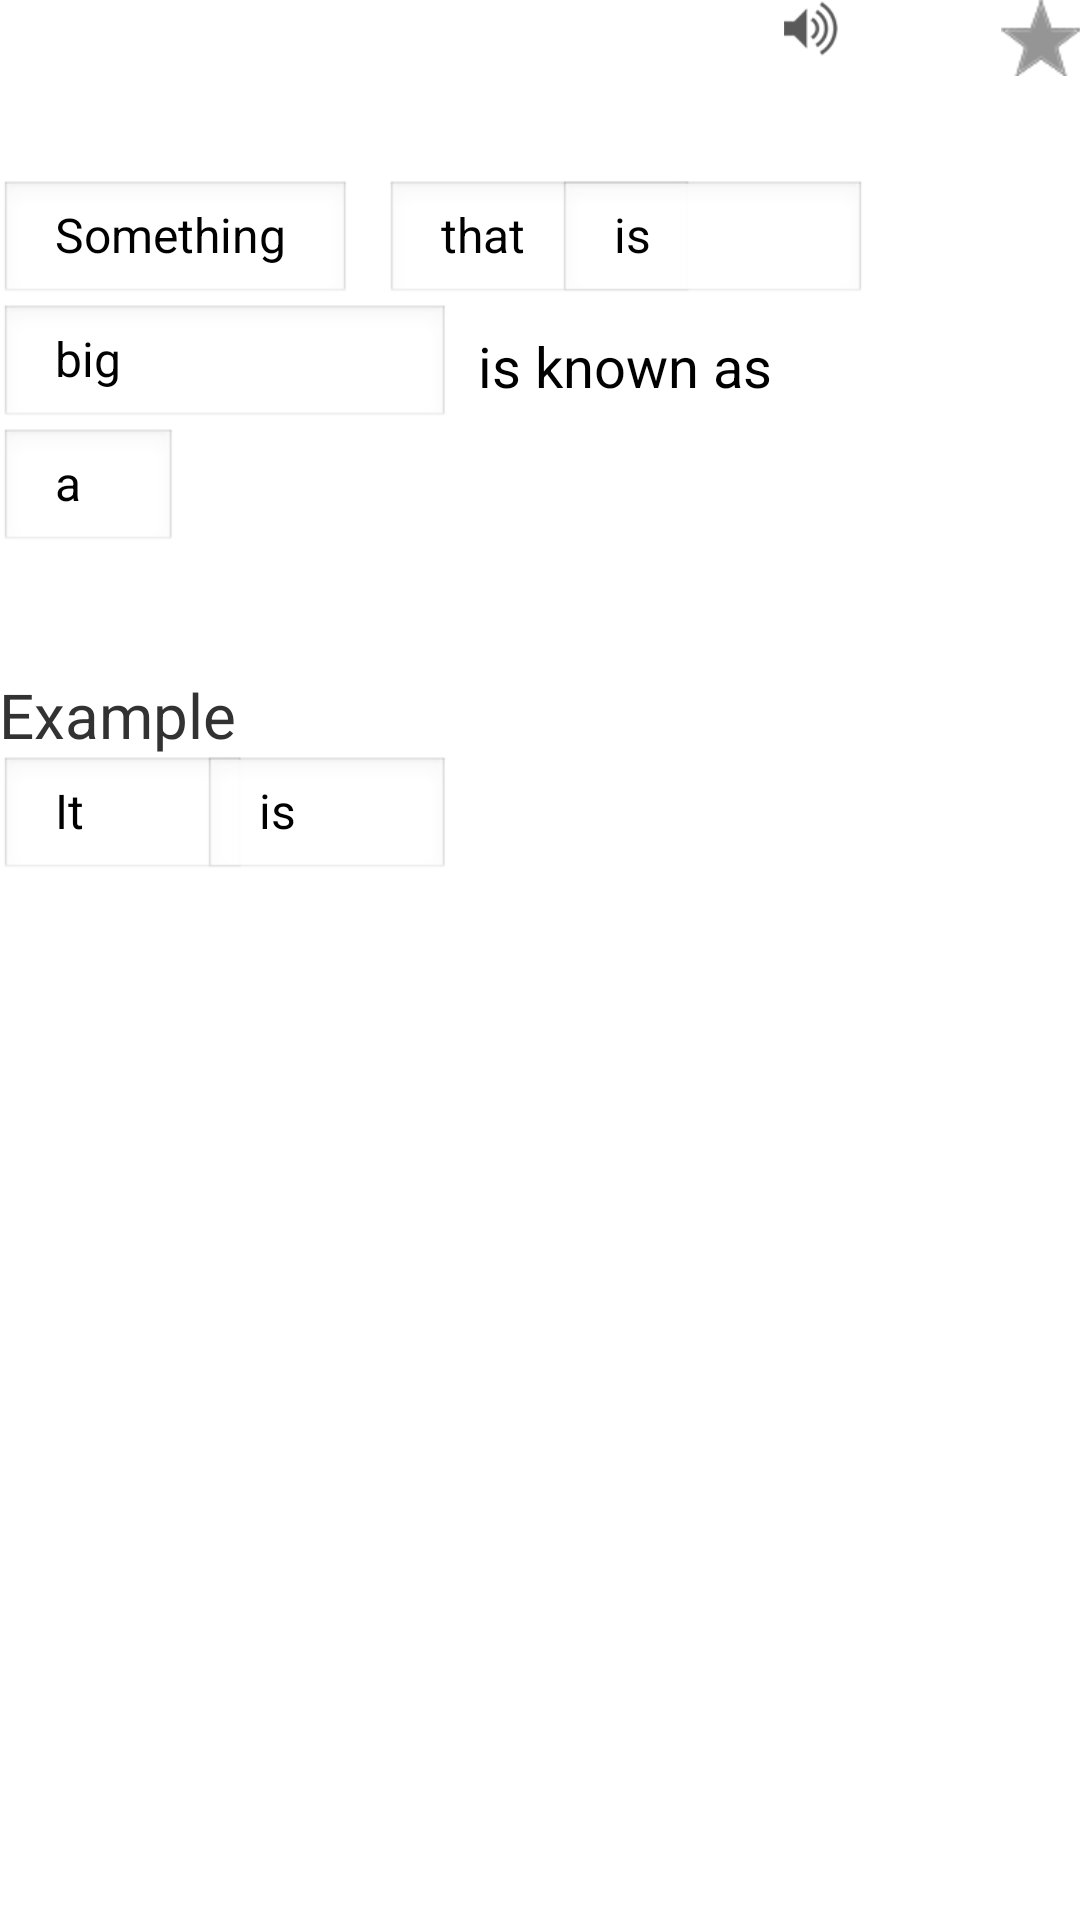

Icon click points for this 1080px×1920px phone screenshot, format point (x, y):
speaker: point (811, 28)
star: point (1040, 38)
